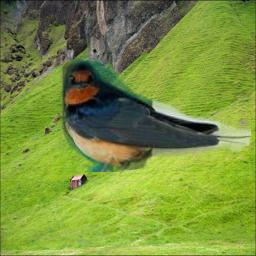Swallow: (58, 55, 251, 172)
